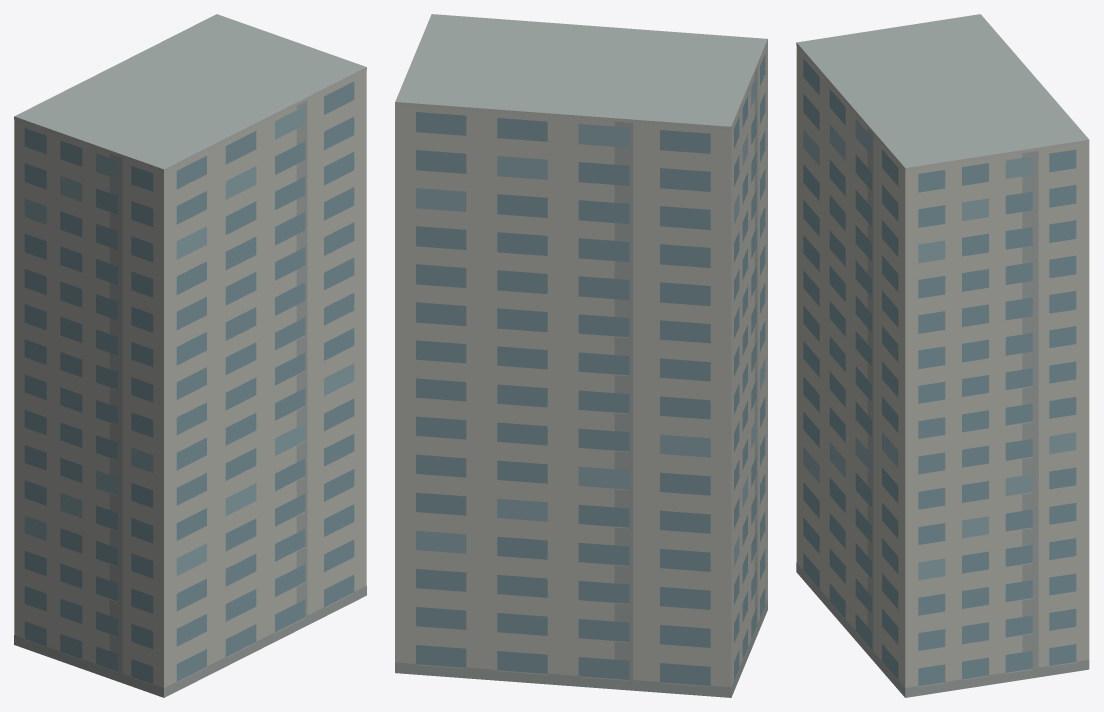
The model's file is residential-4bc60a43-5203-4ddf-8645-e9314e56bb38.glb.
3 renders of one model, left to right at view 1: azimuth 30°, elevation 25°; view 2: azimuth 150°, elevation 25°; view 3: azimuth 270°, elevation 25°, orthographic. The views are drawn at different scales.
Parts seen in each view (by area): view 1: residential-4bc60a43-5203-4ddf-8645-e9314e56bb38.tmp; view 2: residential-4bc60a43-5203-4ddf-8645-e9314e56bb38.tmp; view 3: residential-4bc60a43-5203-4ddf-8645-e9314e56bb38.tmp.
Part boxes in pixels (x1=…): residential-4bc60a43-5203-4ddf-8645-e9314e56bb38.tmp: x1=14, y1=14, x2=366, y2=697; residential-4bc60a43-5203-4ddf-8645-e9314e56bb38.tmp: x1=395, y1=14, x2=767, y2=697; residential-4bc60a43-5203-4ddf-8645-e9314e56bb38.tmp: x1=796, y1=14, x2=1089, y2=697.
Bounding box in the file's own units: 25.58 × 41 × 20.55.
